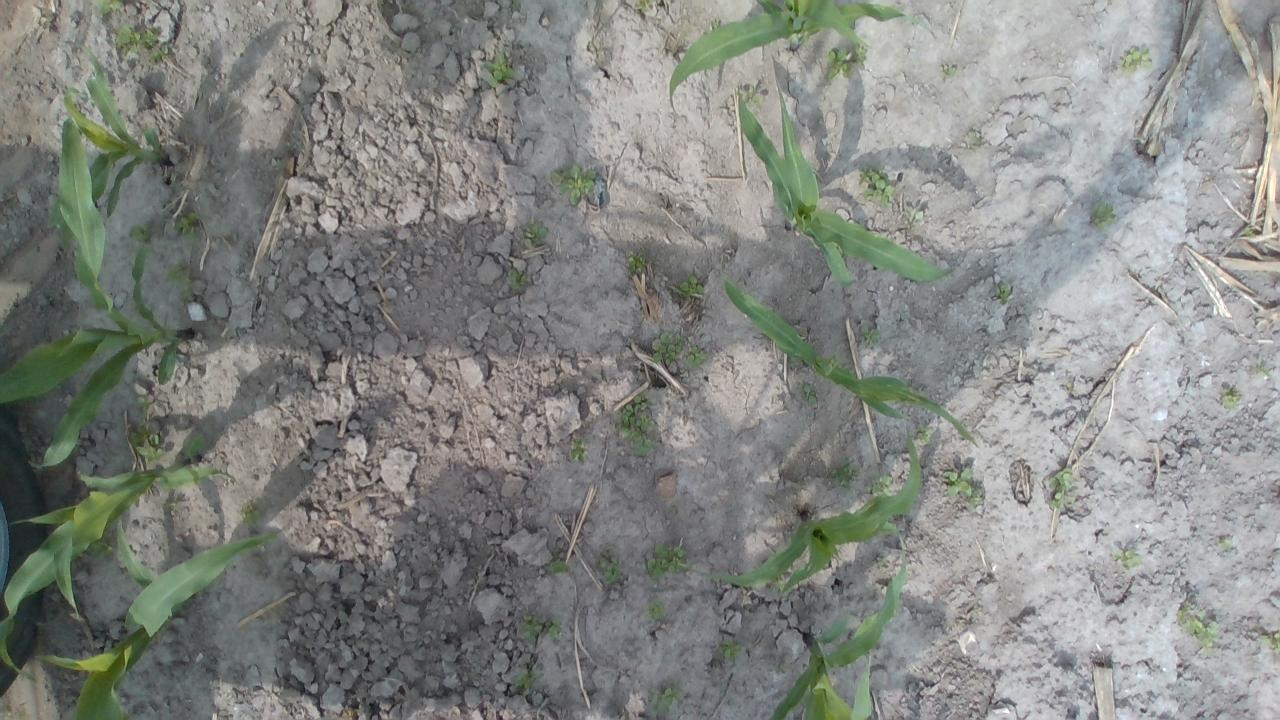Maize: (2, 459, 230, 684), (28, 522, 286, 718), (712, 264, 982, 450), (2, 234, 200, 471), (734, 81, 959, 289), (695, 432, 928, 598), (42, 40, 175, 318), (666, 0, 938, 114), (764, 548, 914, 718)
Weeds: (124, 378, 192, 466), (620, 400, 661, 456), (113, 30, 169, 70), (1176, 604, 1222, 644), (651, 334, 702, 369), (643, 542, 686, 582), (560, 169, 602, 202), (855, 169, 893, 205), (515, 616, 562, 644), (1046, 463, 1074, 509), (825, 49, 865, 78), (485, 57, 516, 90), (1118, 48, 1150, 74), (596, 558, 624, 587), (946, 469, 972, 500), (509, 669, 542, 692), (716, 640, 744, 666), (171, 216, 200, 240), (654, 688, 684, 710), (170, 264, 193, 292), (502, 268, 530, 290), (678, 278, 712, 296), (1090, 207, 1116, 228), (802, 381, 822, 407), (832, 462, 858, 482), (88, 2, 125, 16), (625, 253, 645, 275), (1117, 552, 1136, 574), (997, 284, 1016, 306), (636, 0, 660, 17), (904, 201, 924, 221), (874, 476, 896, 494), (1252, 362, 1274, 380), (526, 228, 548, 244), (668, 33, 686, 51), (570, 445, 588, 462), (1224, 392, 1241, 410), (548, 560, 567, 574), (866, 330, 880, 344), (650, 608, 664, 620), (943, 69, 953, 83), (1273, 633, 1280, 652)
